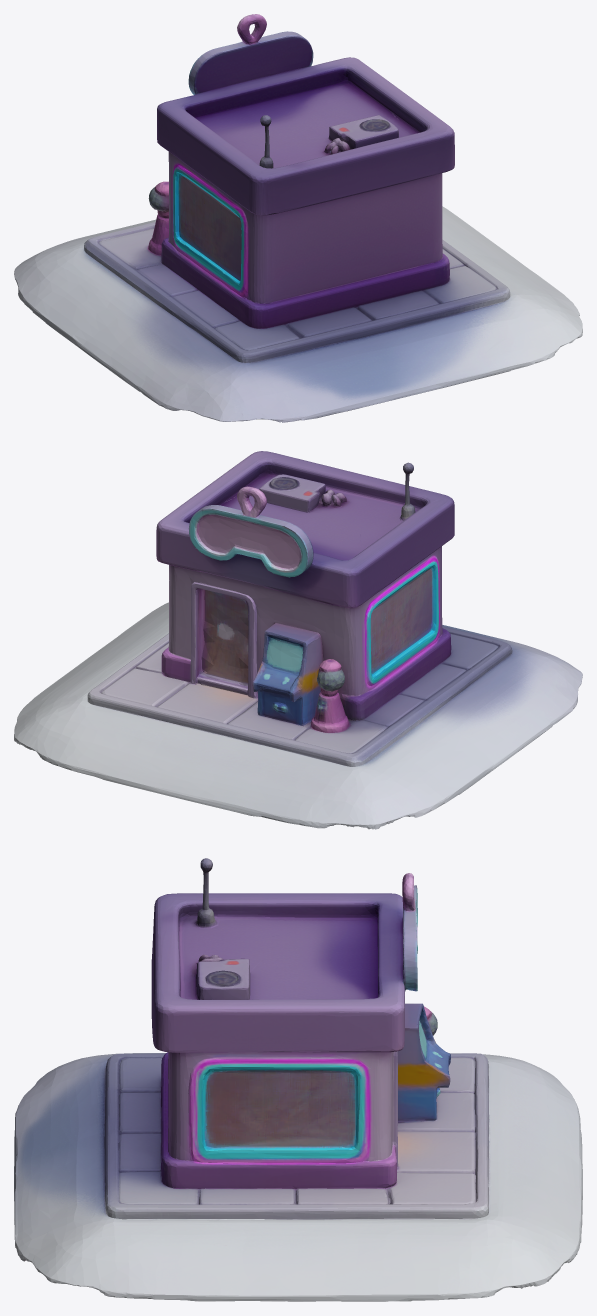
Rendered from edificio_recreativos.glb.
3 views of the same model, one above another, from view 1: azimuth 30°, elevation 25°; view 2: azimuth 150°, elevation 25°; view 3: azimuth 270°, elevation 25° (orthographic). The views are drawn at different scales.
Visible parts, largest first — view 1: world; view 2: world; view 3: world.
Part boxes in pixels (bbox=[...]): world: bbox=[14, 14, 582, 422]; world: bbox=[14, 451, 582, 829]; world: bbox=[14, 858, 582, 1301].
Size of the model in its own units: 0.9993 by 0.5931 by 0.9998.
1 material, 1 textured.
